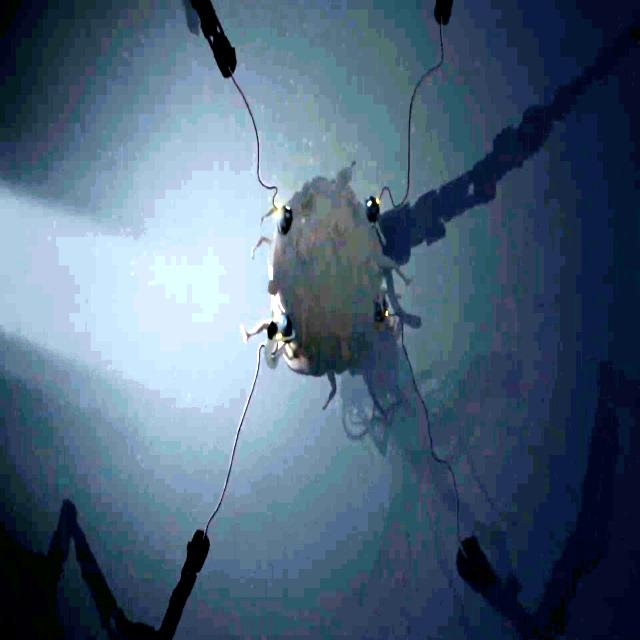boy: (266, 322, 290, 371)
interactible: (276, 204, 294, 237), (375, 292, 390, 320), (278, 312, 293, 339), (367, 196, 380, 224)
mechanism: (382, 19, 640, 266), (458, 377, 640, 639), (36, 496, 208, 640), (192, 0, 238, 81), (434, 0, 452, 26)
